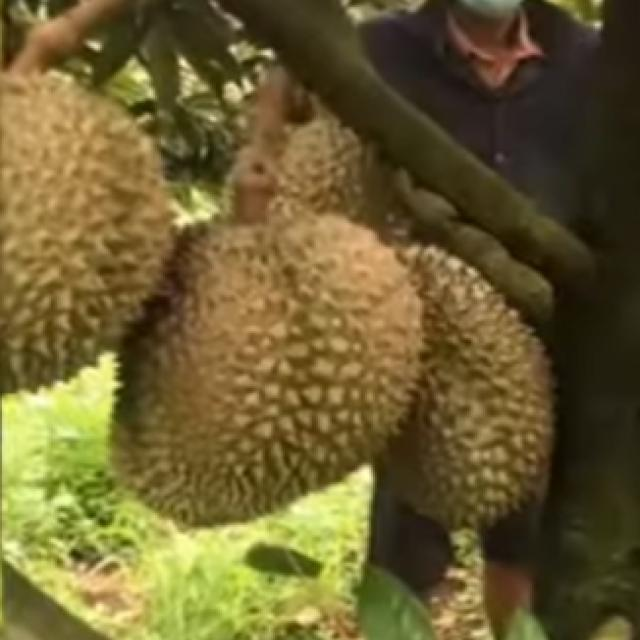mature: (107, 210, 413, 524), (345, 239, 552, 533)
